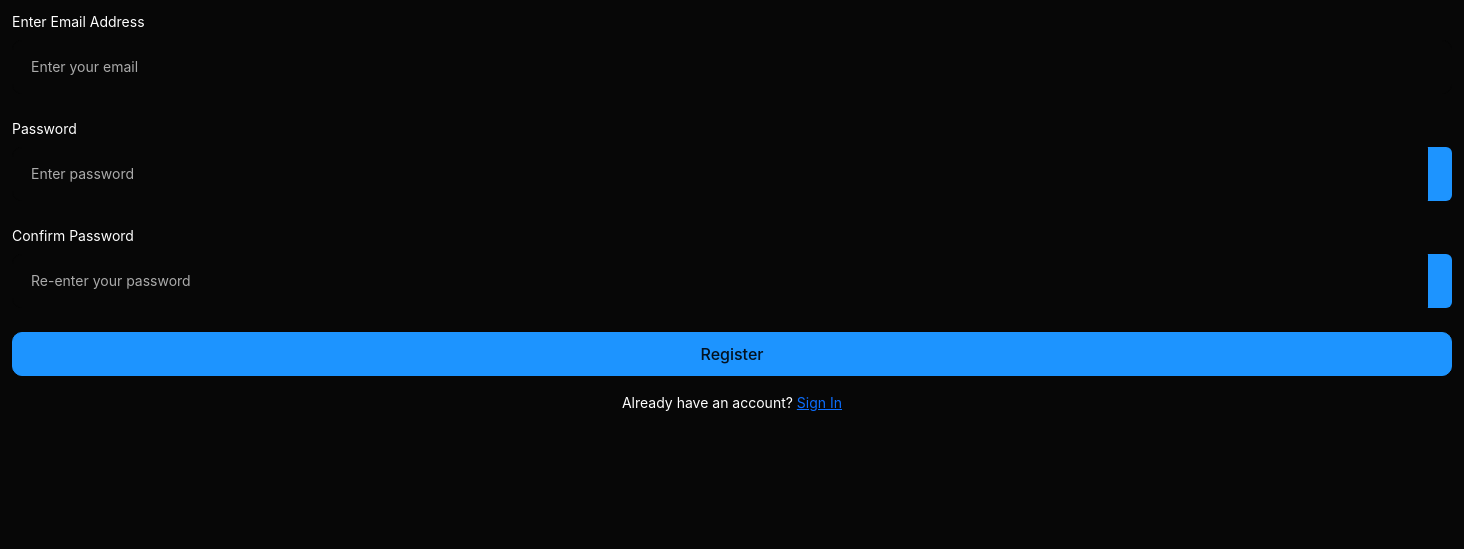
Test: delivery on: the spam-folder line is exactly as before
Type "someone@example.com" into the field with placeholder "Enter your email" at (732, 67), box 12,40 -> 1452,94
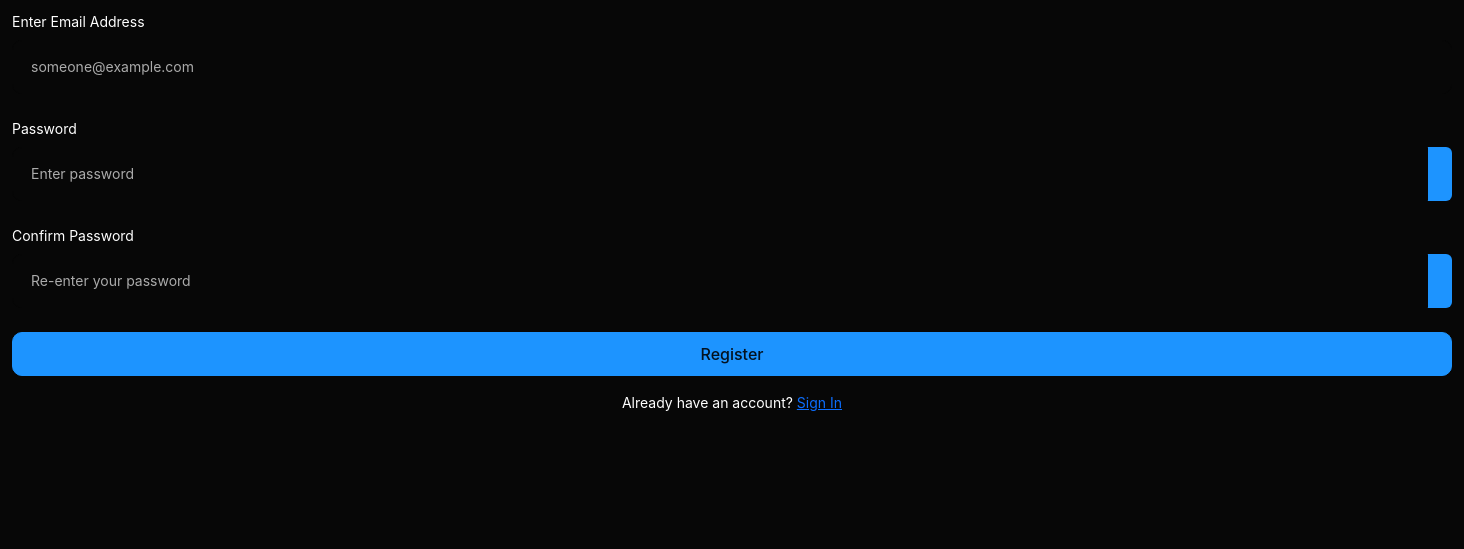
Type "Passw0rd!23" into the password field with placeholder "Enter password" at (720, 174), box 12,147 -> 1428,201
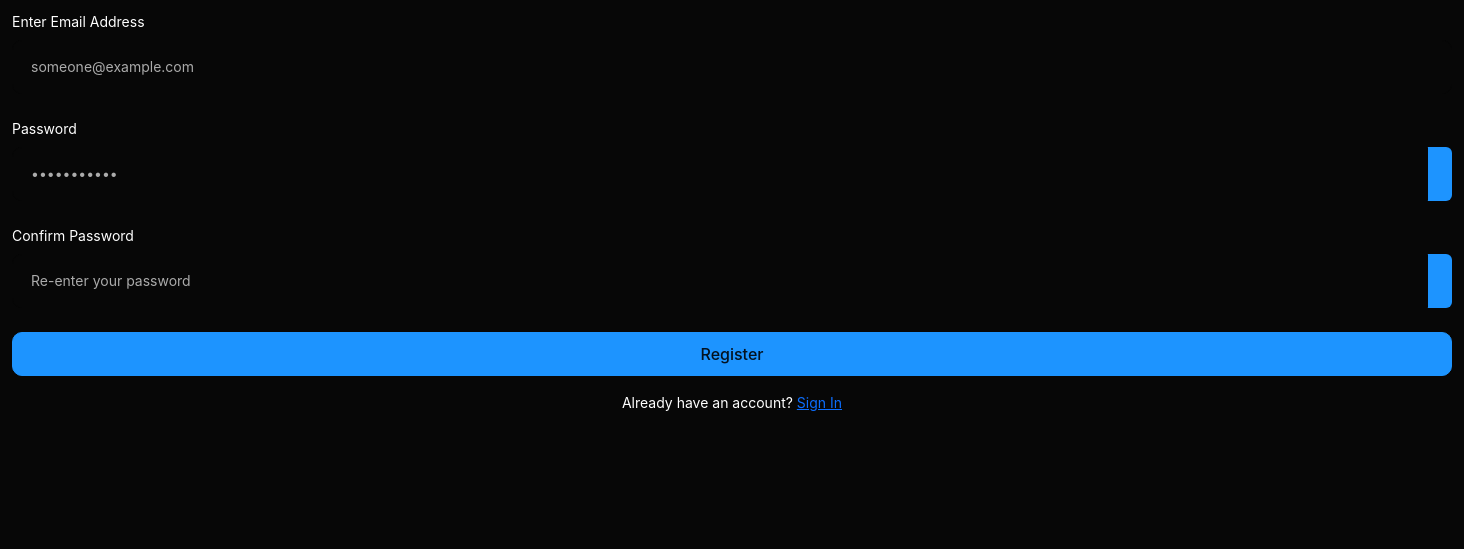
Type "Passw0rd!23" into the password field with placeholder "Re-enter your password" at (720, 281), box 12,254 -> 1428,308
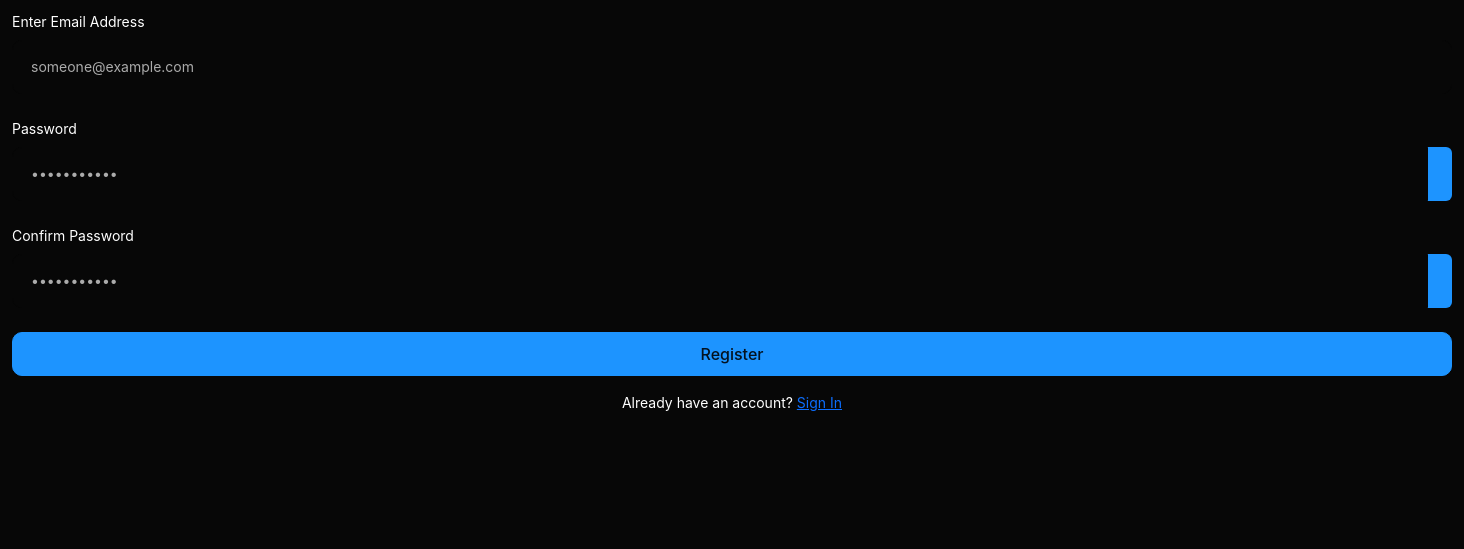
Click the button "Register" at (732, 354), box 12,332 -> 1452,376
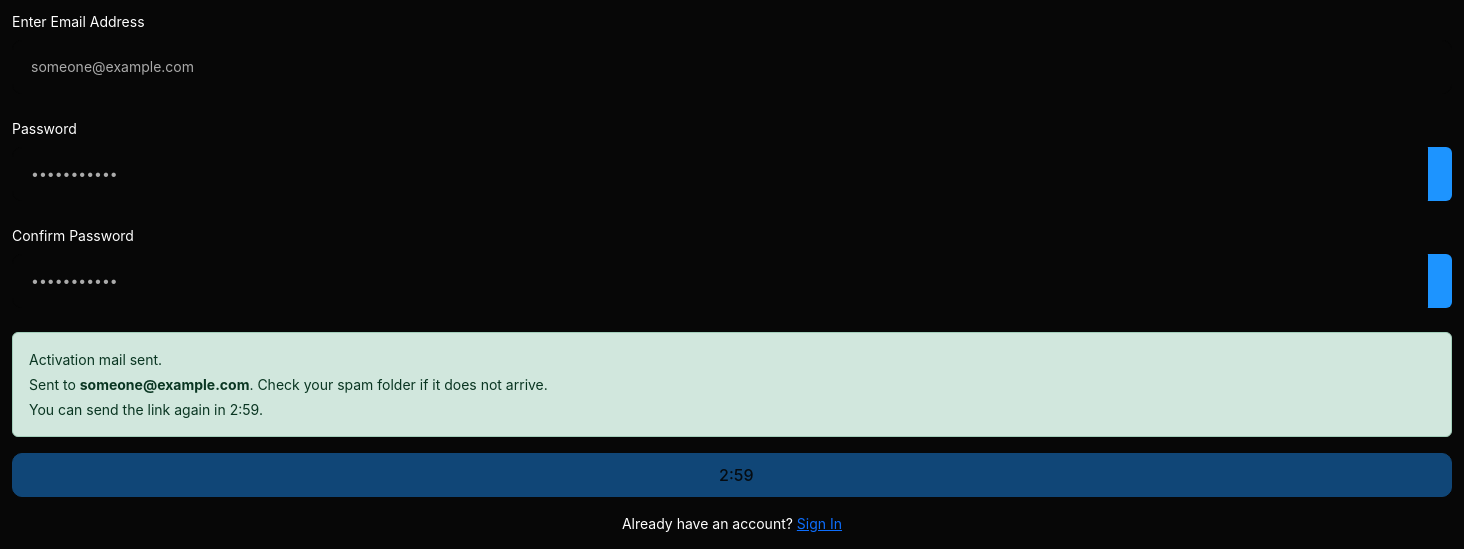
Expected: the message with test id "register-success-notice" shows "spam folder", 249,376 -> 548,393
